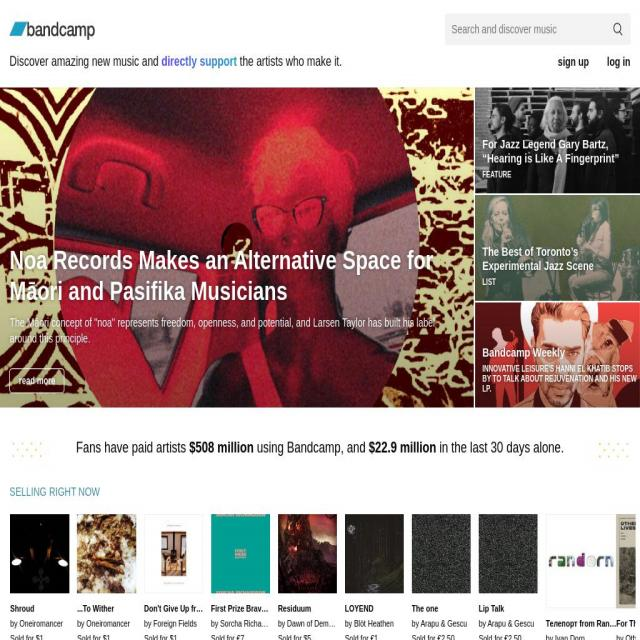login-option: (601, 50, 634, 73)
navigation-blocks: (14, 86, 640, 402), (9, 481, 640, 640)
search: (444, 10, 636, 48)
sign-up-option: (554, 52, 594, 73)
